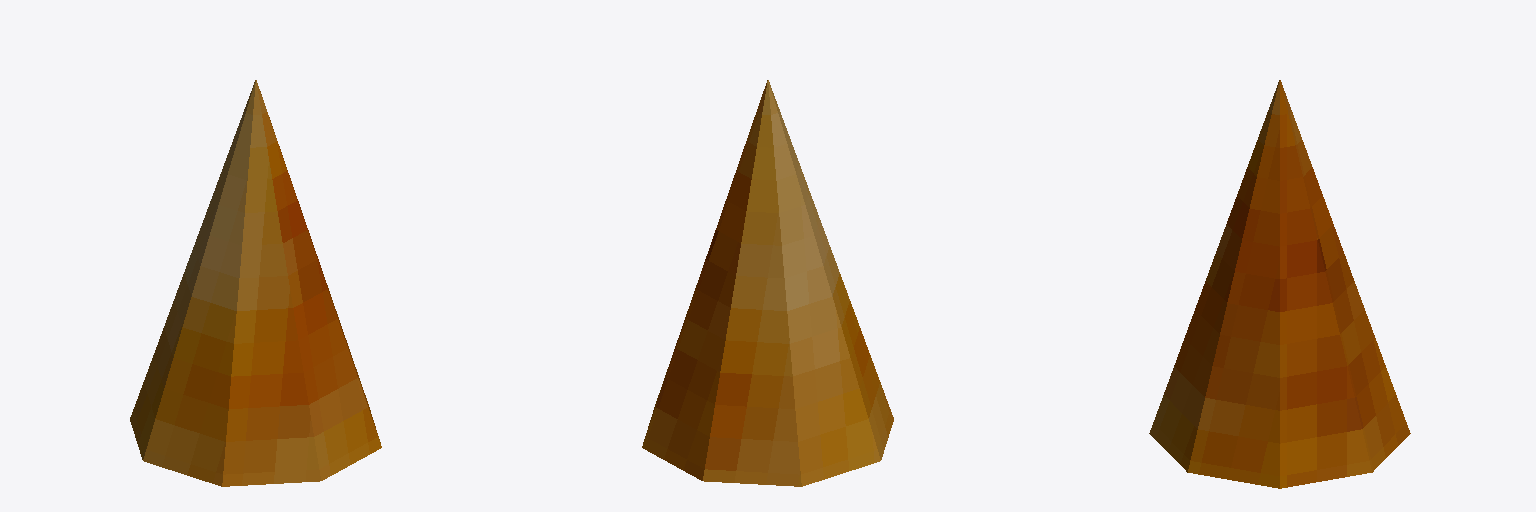
3 views of the same model, side by side, from view 1: azimuth 30°, elevation 25°; view 2: azimuth 150°, elevation 25°; view 3: azimuth 270°, elevation 25° (orthographic).
Visible parts, largest first — view 1: Cylinder; view 2: Cylinder; view 3: Cylinder.
Boxes of the visible parts, x1=… form: Cylinder: x1=130, y1=80, x2=381, y2=486; Cylinder: x1=642, y1=80, x2=893, y2=486; Cylinder: x1=1149, y1=80, x2=1410, y2=488.
Bounding box in the file's own units: 2 × 3 × 2.
Materials: 1 (1 with a texture image).